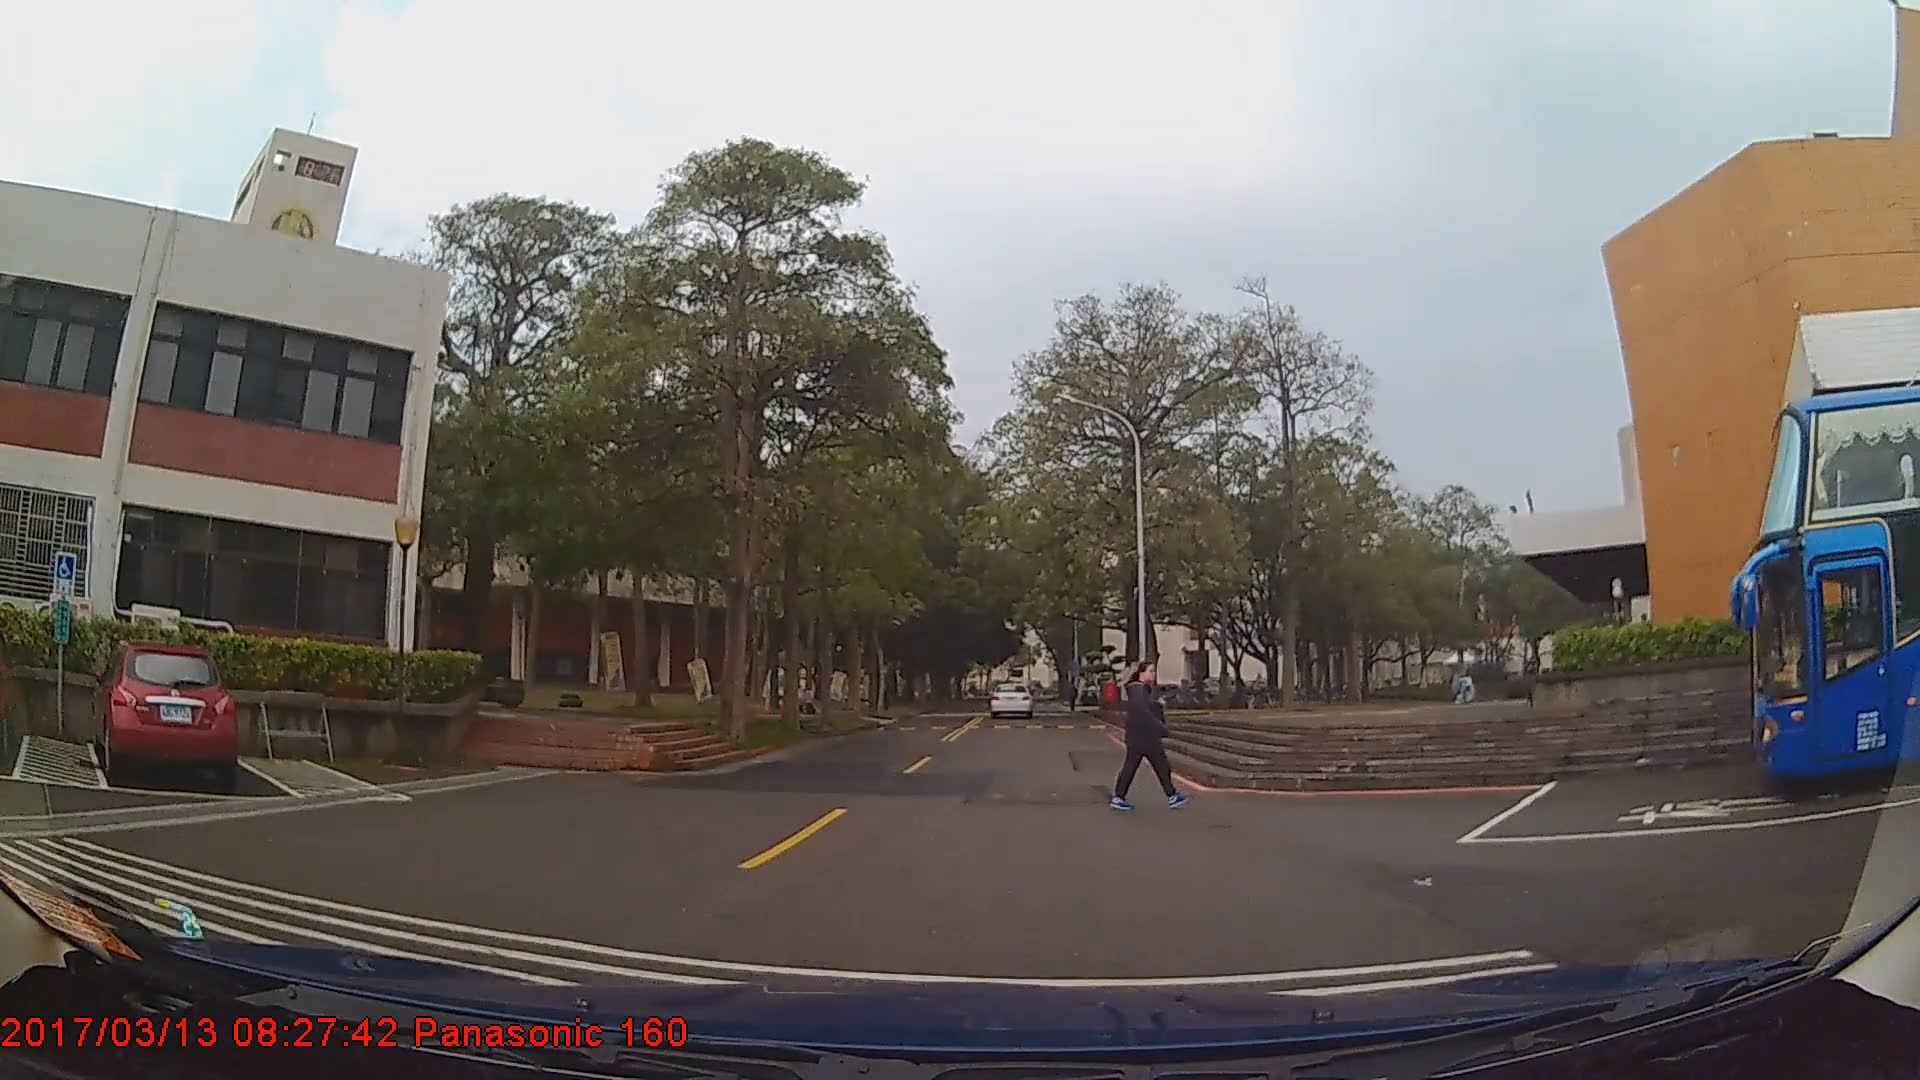pedestrian: (1115, 659, 1179, 814)
vehicle: (1747, 381, 1920, 794), (93, 640, 238, 789), (988, 679, 1030, 718)
